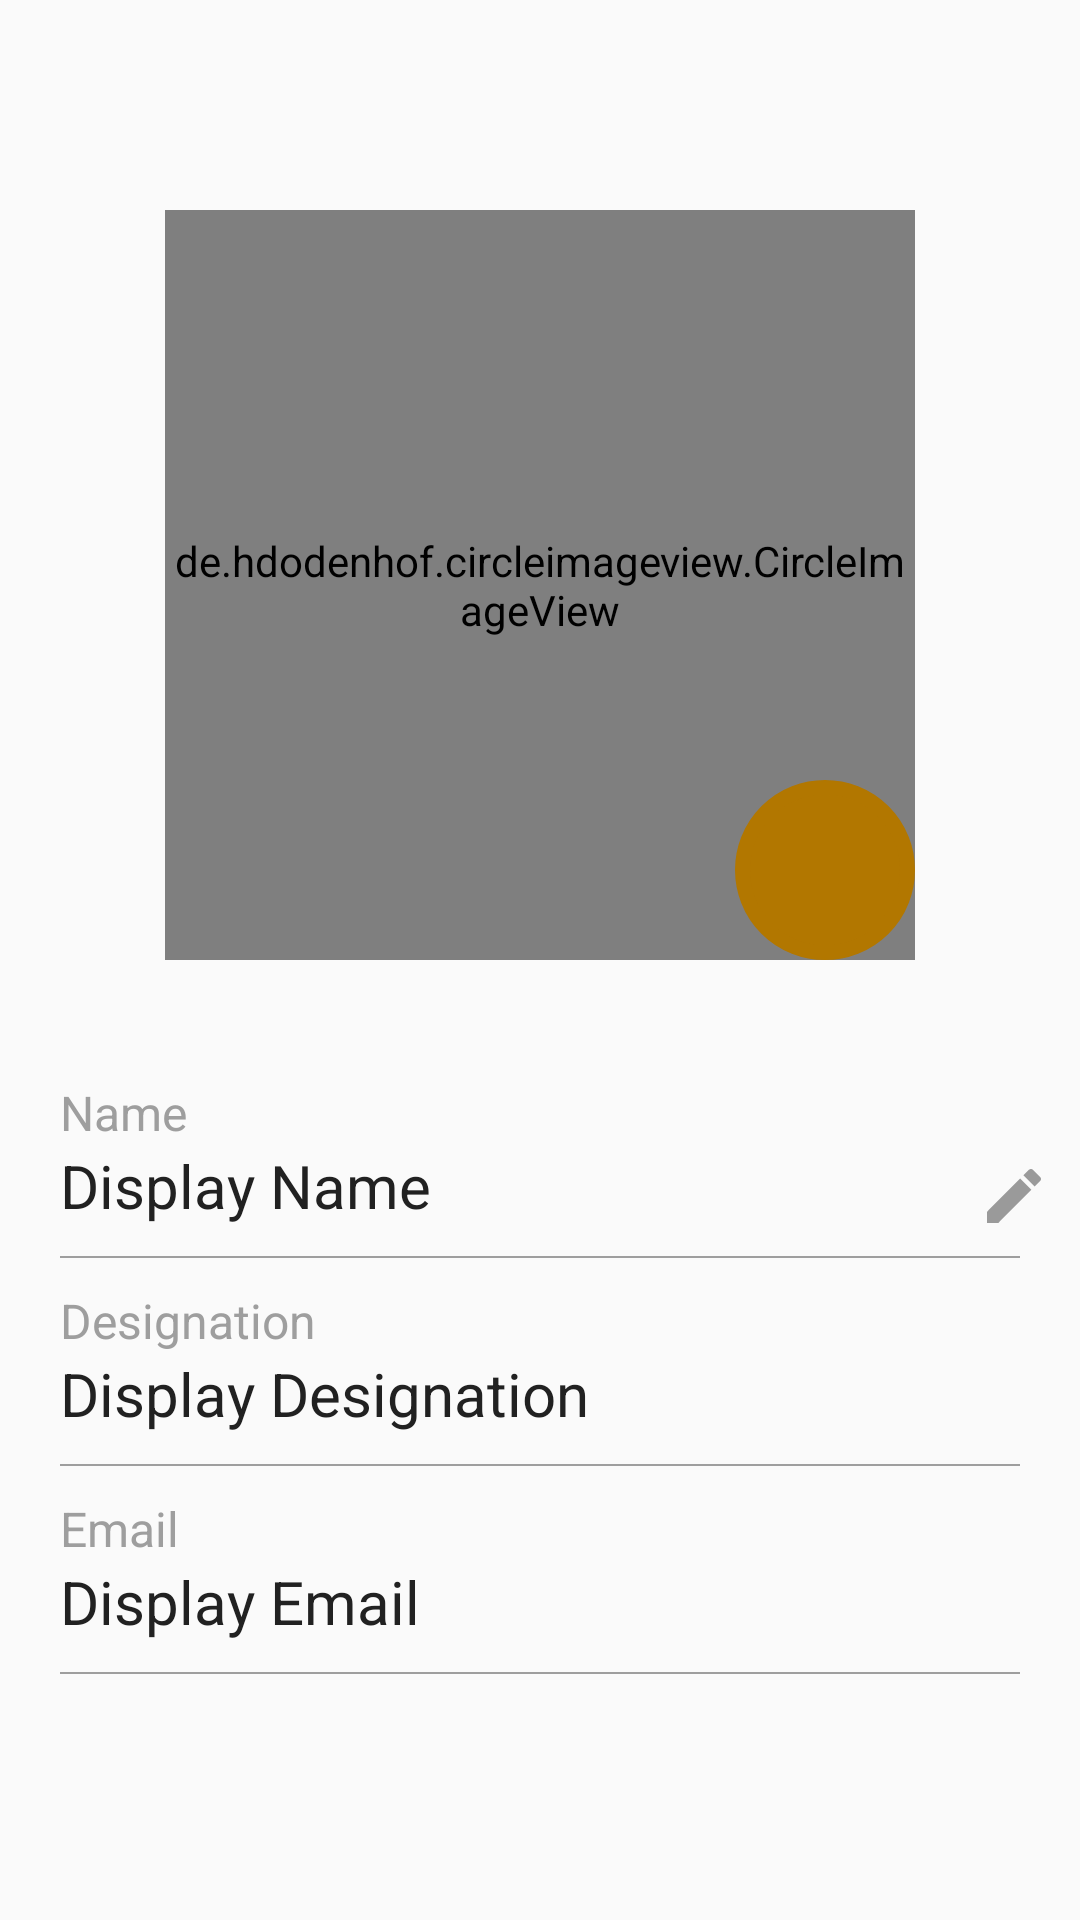

Icons on this 1080px x 1920px Android screen, each with the point to tap as (x,y):
create: (1014,1196)
